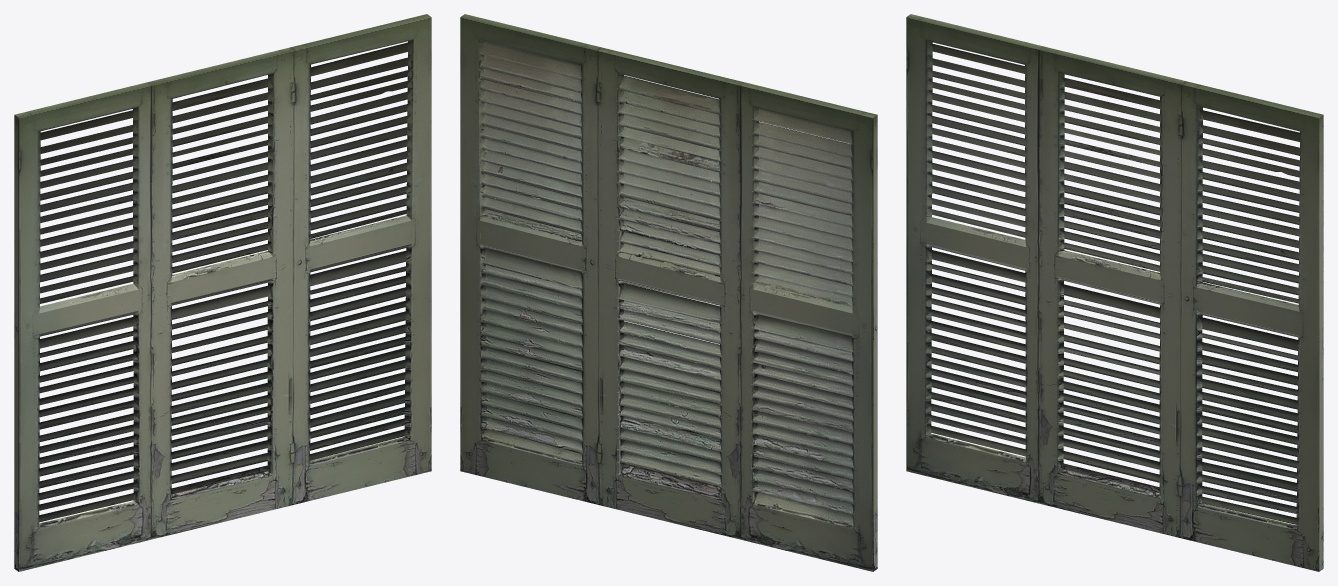
File: shutters_old.glb
The picture shows the model from 3 angles, left to right: view 1: azimuth 30°, elevation 25°; view 2: azimuth 150°, elevation 25°; view 3: azimuth 330°, elevation 25°; orthographic projection.
Visible parts, largest first — view 1: shutter1v1_LOD0, shutter1v2_LOD0, shutter1v3_LOD0; view 2: shutter1v2_LOD0, shutter1v1_LOD0, shutter1v3_LOD0; view 3: shutter1v1_LOD0, shutter1v2_LOD0, shutter1v3_LOD0.
Part boxes in pixels (x1,y1,x2,y2): shutter1v1_LOD0: (289, 14, 431, 504); shutter1v2_LOD0: (147, 48, 293, 539); shutter1v3_LOD0: (14, 82, 151, 571); shutter1v2_LOD0: (598, 48, 744, 539); shutter1v1_LOD0: (460, 14, 602, 504); shutter1v3_LOD0: (740, 82, 877, 571); shutter1v1_LOD0: (1181, 81, 1323, 571); shutter1v2_LOD0: (1039, 46, 1184, 537); shutter1v3_LOD0: (906, 14, 1042, 503).
Bounding box in the file's own units: 1.84 × 1.93 × 0.0364.
1 material, 1 textured.
